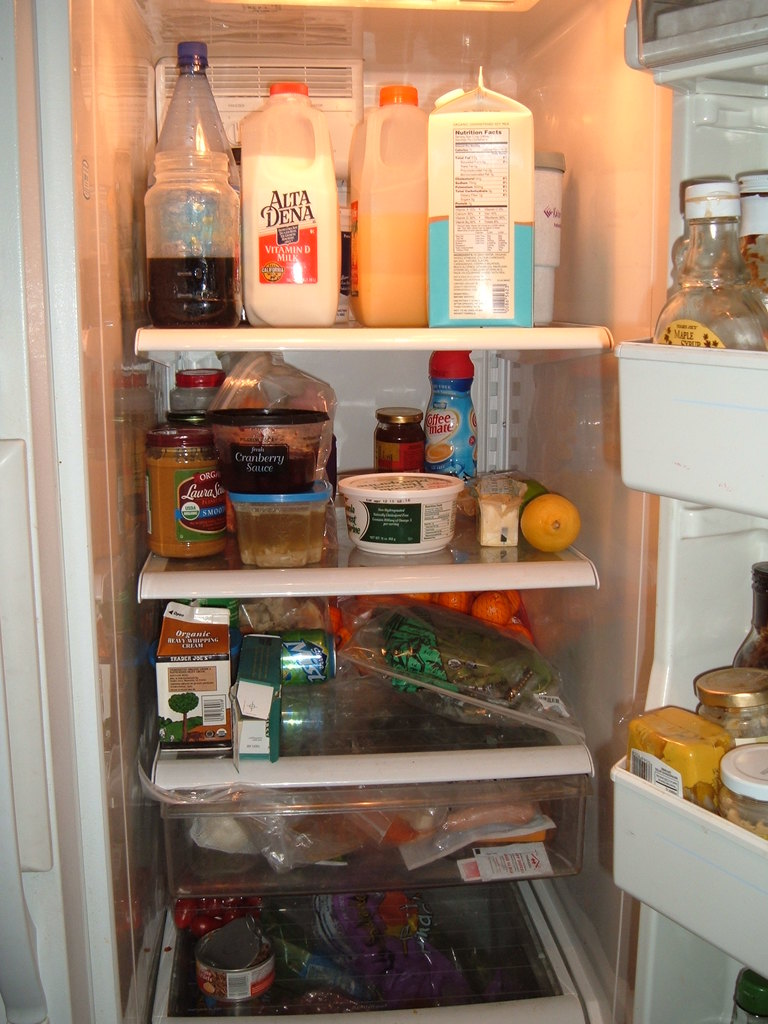refrigerator door: (668, 105, 768, 1024)
